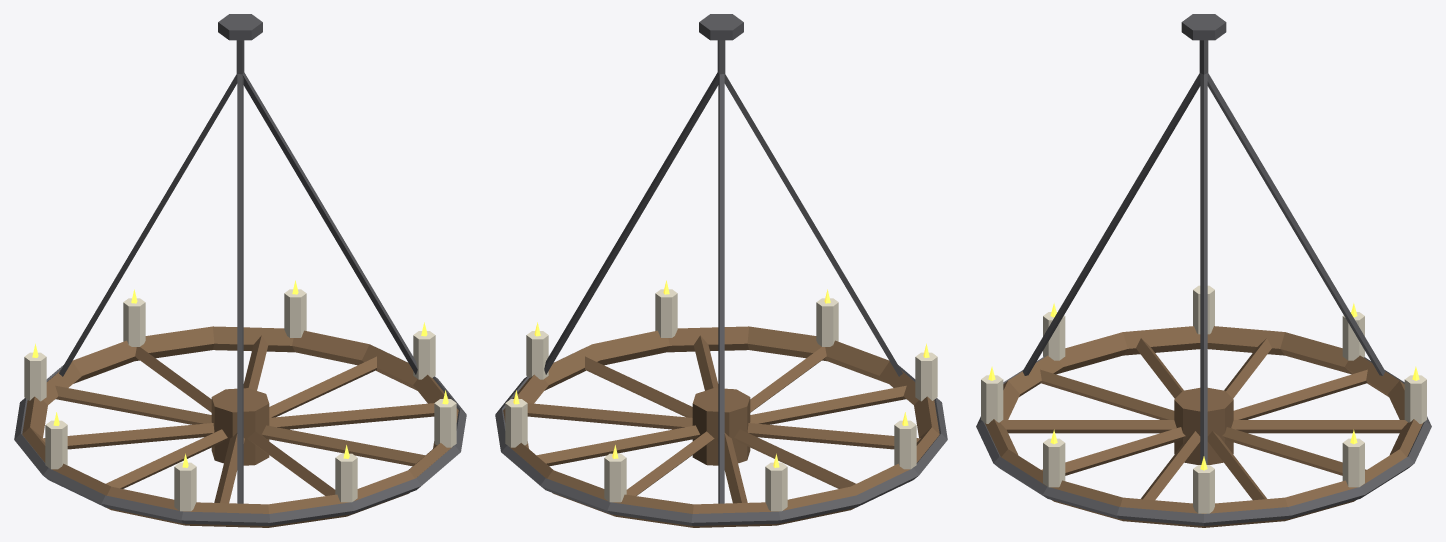
The model's file is SM_Chandelier_Wheel.glb.
The picture shows the model from 3 angles, left to right: view 1: azimuth 30°, elevation 25°; view 2: azimuth 150°, elevation 25°; view 3: azimuth 270°, elevation 25°; orthographic projection.
Parts seen in each view (by area): view 1: SM_Chandelier_Wheel; view 2: SM_Chandelier_Wheel; view 3: SM_Chandelier_Wheel.
Part boxes in pixels (x1=…): SM_Chandelier_Wheel: x1=14, y1=14, x2=466, y2=527; SM_Chandelier_Wheel: x1=495, y1=14, x2=947, y2=527; SM_Chandelier_Wheel: x1=976, y1=14, x2=1431, y2=527.
Size of the model in its own units: 1.23 by 1.28 by 1.23.
